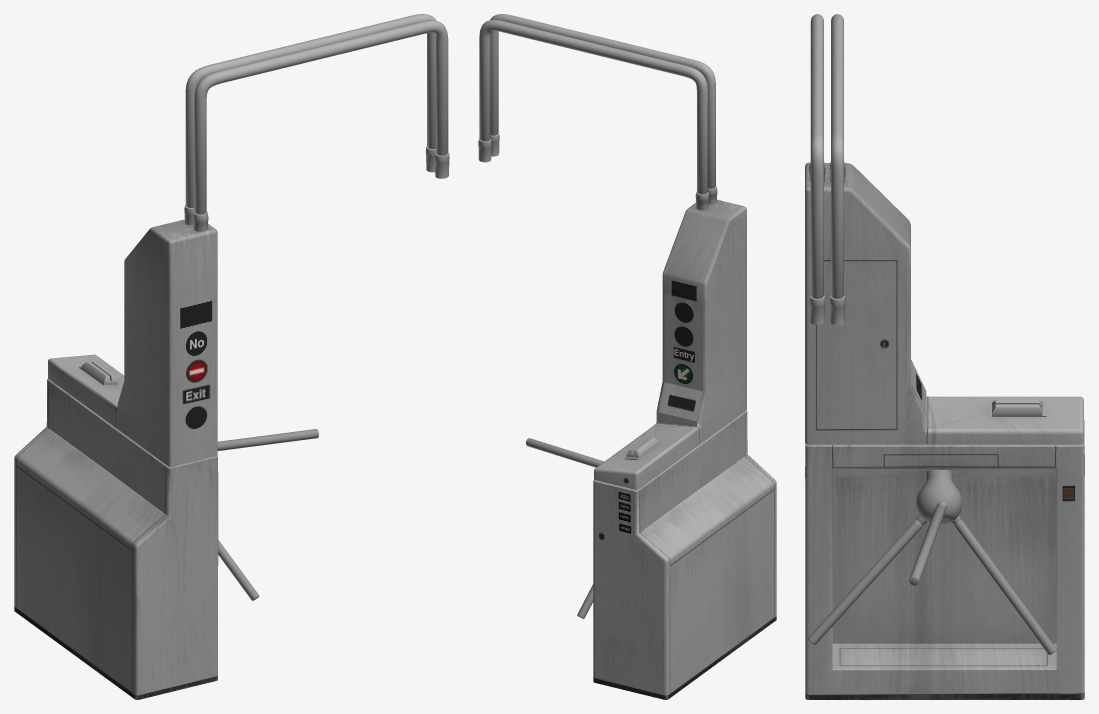
Rendered from prop_turnstile_a.FBX.
3 views of the same model, side by side, from view 1: azimuth 30°, elevation 25°; view 2: azimuth 150°, elevation 25°; view 3: azimuth 270°, elevation 25° (orthographic). The views are drawn at different scales.
Visible parts, largest first — view 1: prop_turnstile_a, turntile_a_02; view 2: prop_turnstile_a, turntile_a_02; view 3: prop_turnstile_a, turntile_a_02.
Boxes of the visible parts, left/top/right/bottom form: prop_turnstile_a: left=14, top=14, right=449, bottom=699; turntile_a_02: left=217, top=429, right=318, bottom=600; prop_turnstile_a: left=478, top=14, right=776, bottom=699; turntile_a_02: left=526, top=438, right=604, bottom=618; prop_turnstile_a: left=805, top=14, right=1084, bottom=699; turntile_a_02: left=807, top=470, right=1056, bottom=654.
Bounding box in the file's own units: 1.99 × 3.61 × 1.34.
2 materials, 1 textured.
